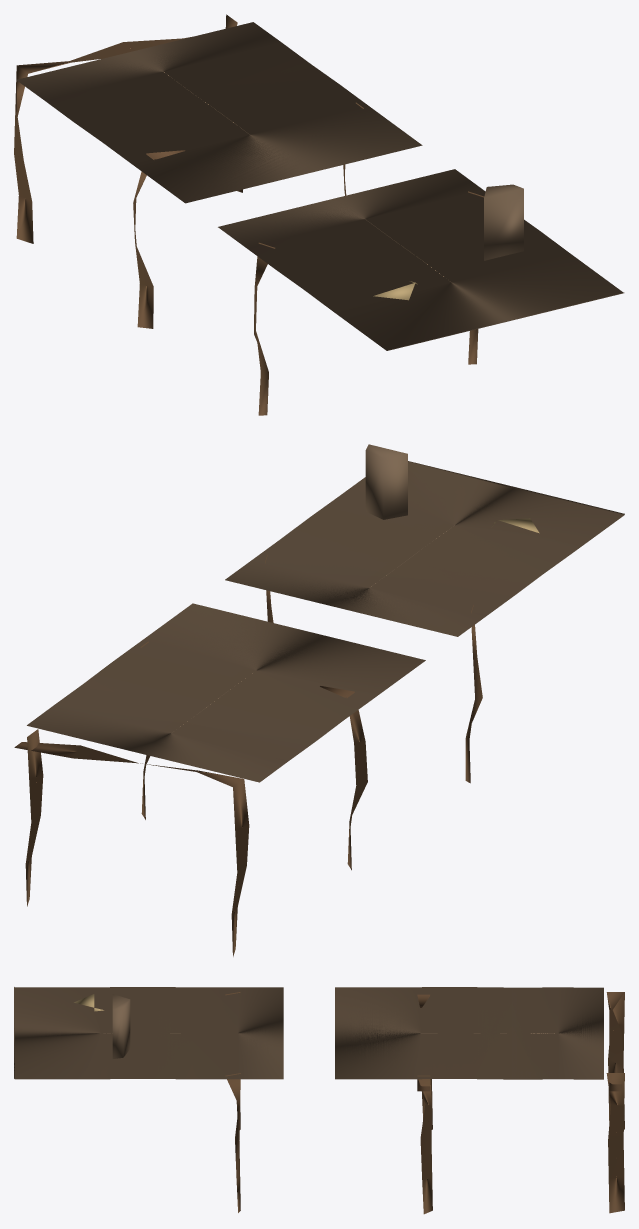
The model's file is water_pier.glb.
The picture shows the model from 3 angles, top to bottom: view 1: azimuth 30°, elevation 25°; view 2: azimuth 150°, elevation 25°; view 3: azimuth 270°, elevation 25°; orthographic projection. The views are drawn at different scales.
Parts seen in each view (by area): view 1: wood, wood_dark; view 2: wood, wood_dark; view 3: wood, wood_dark.
Boxes of the visible parts, x1,y1,x2,y2 form: wood: (16, 22, 624, 350); wood_dark: (14, 14, 483, 415); wood: (27, 444, 624, 782); wood_dark: (14, 555, 482, 956); wood: (14, 987, 603, 1079); wood_dark: (225, 992, 624, 1214).
Size of the model in its own units: 2.39 by 2.31 by 6.68.
